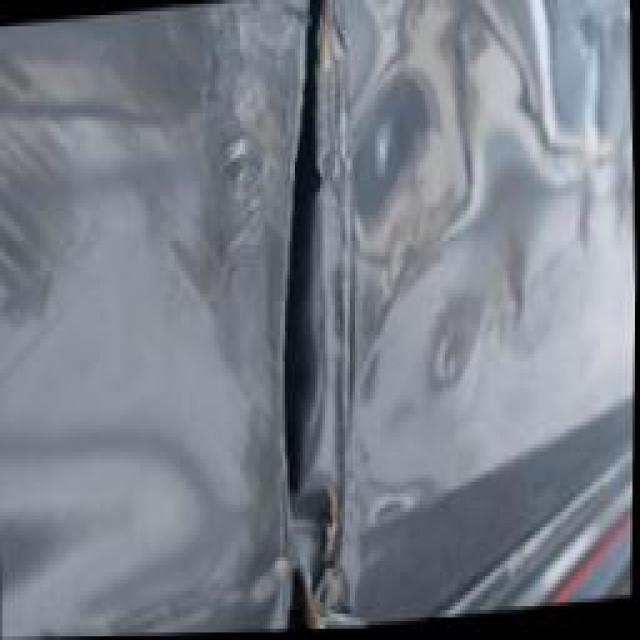Door: (0, 0, 515, 640)
